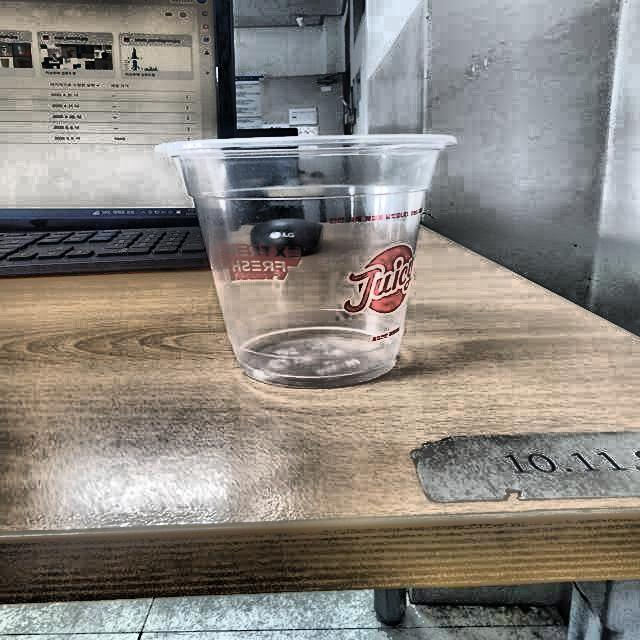plastic cup: (154, 132, 460, 390)
